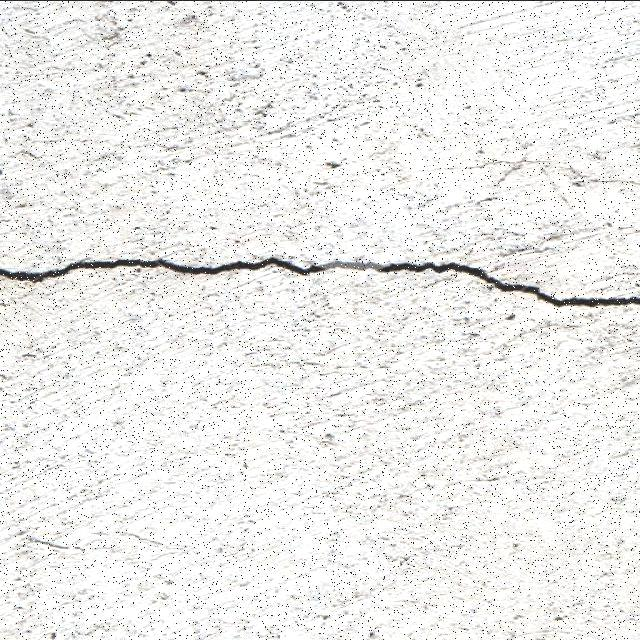crack: (0, 254, 639, 308), (0, 272, 203, 433), (7, 254, 341, 283)
